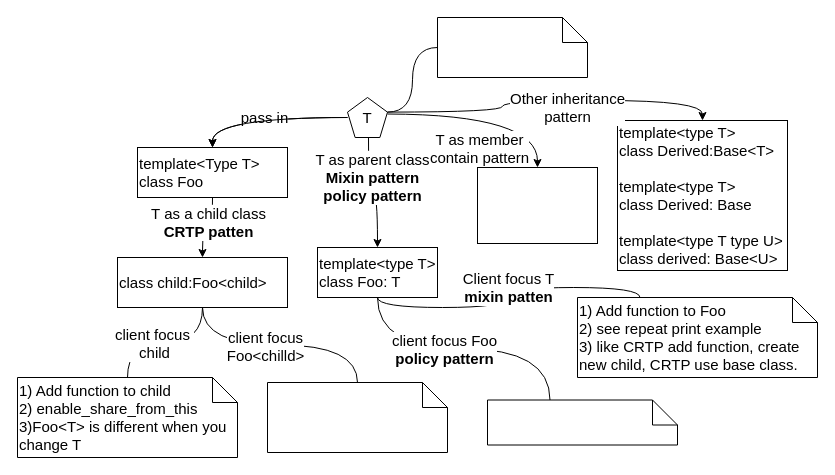
This 835x475 diagram has some shape labels left out. The centre of each missing label's shape, as x and y in pixels:
1) build in type 2)non-template class 3) template class: the point at 512,47
1) see policy section example: the point at 582,422
1) static polymorphism 2) see animal speak example: the point at 357,417
template<type T> class Foo{ T.. }: the point at 537,205
